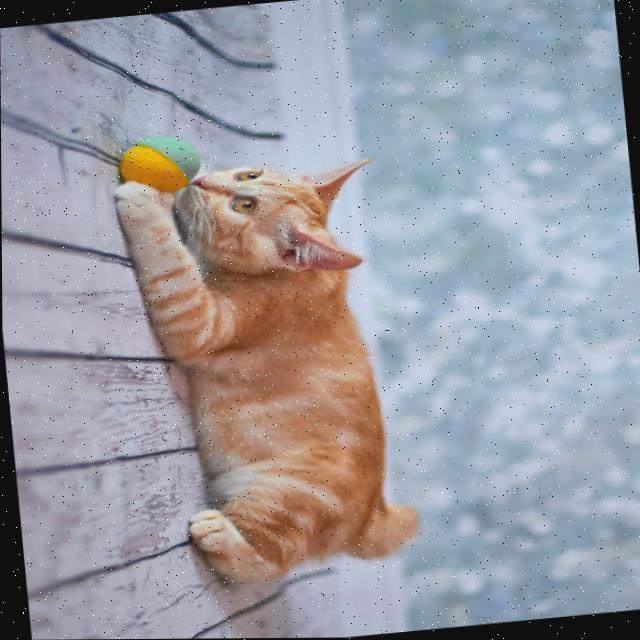American Bobtail: (107, 149, 426, 599)
